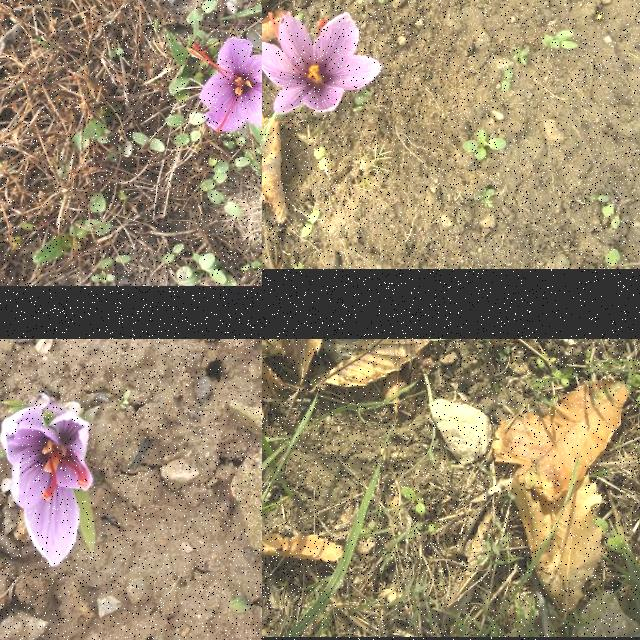flower: (0, 406, 94, 566), (262, 13, 382, 115), (189, 37, 262, 133)
